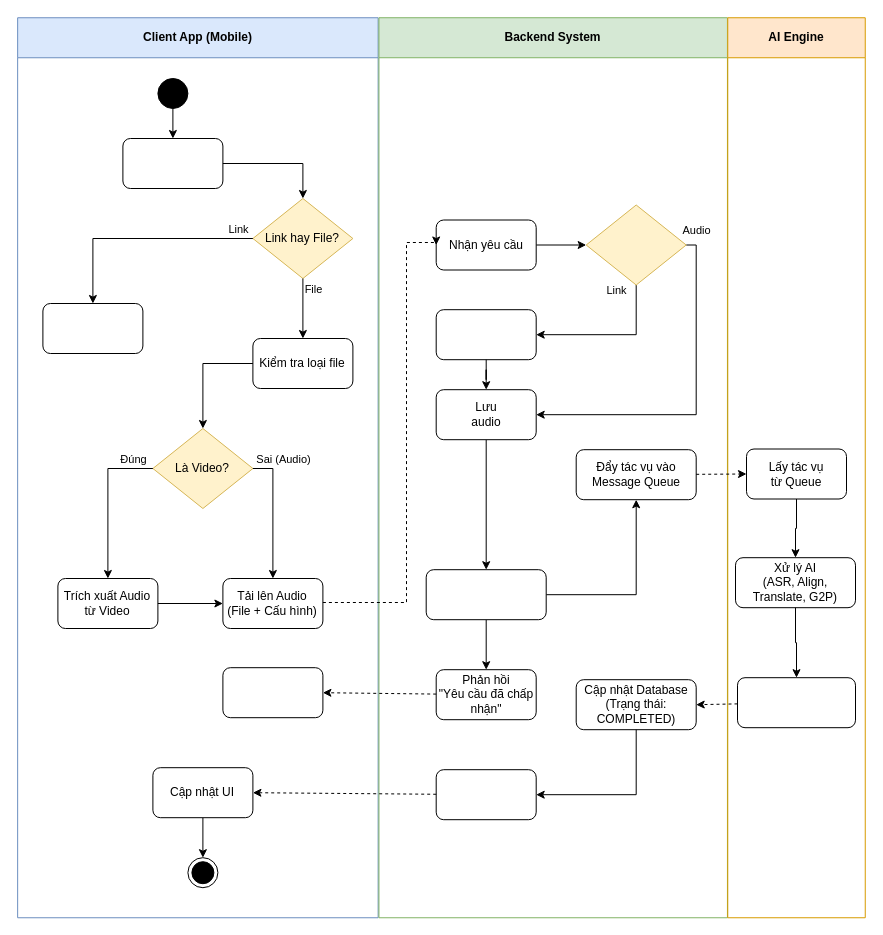
Some shapes in this 883 by 935 pixel diagram are drawn without their labels. The shapes that lost their labels are listed below. From the top down, each one's centre as x and y in pixels, then its label:
At (172,163): "Người dùng thêm media".
At (635,244): "Link hay Audio?".
At (92,328): "Gửi yêu cầu (URL + Cấu hình)".
At (485,334): "Tải định dạng audio từ URL".
At (485,594): "Tạo bản ghi (Trạng thái: QUEUED)".
At (272,692): "Nhận thông báo, cập nhật UI".
At (796,702): "Tạo & Lưu Phụ đề song ngữ (JSON)".
At (485,794): "Thông báo Client (Socket/Polling)".
